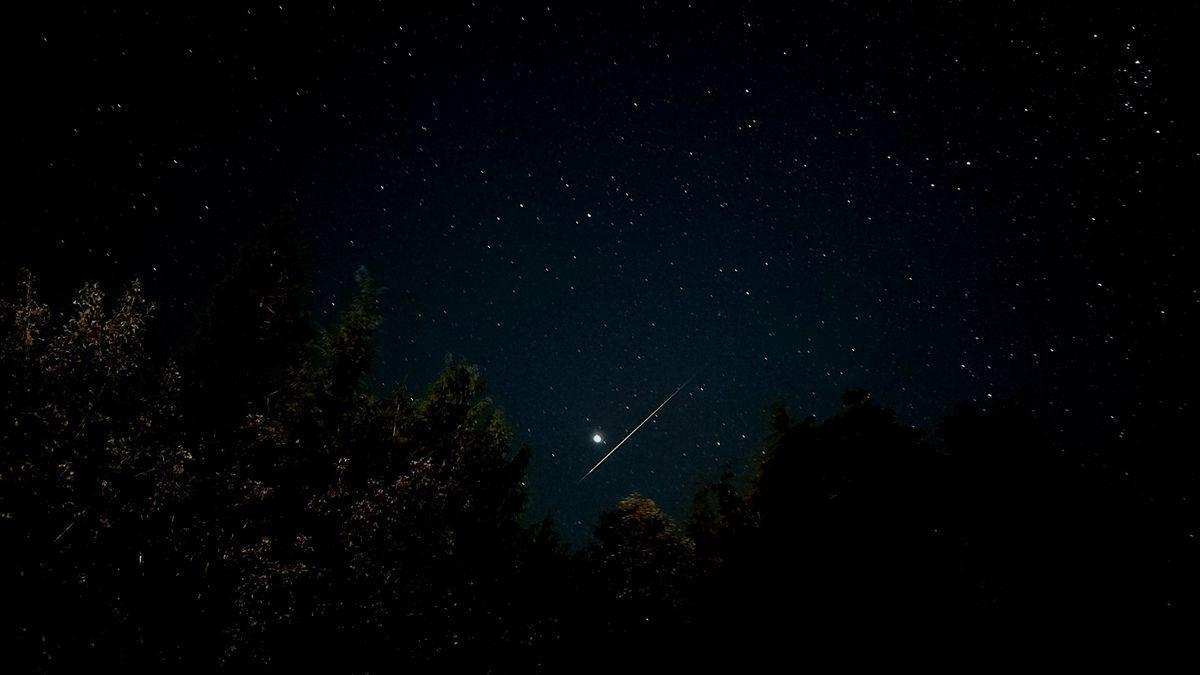meteorite: (571, 378, 700, 493)
